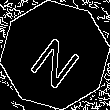N_NE: (24, 23, 86, 87)
